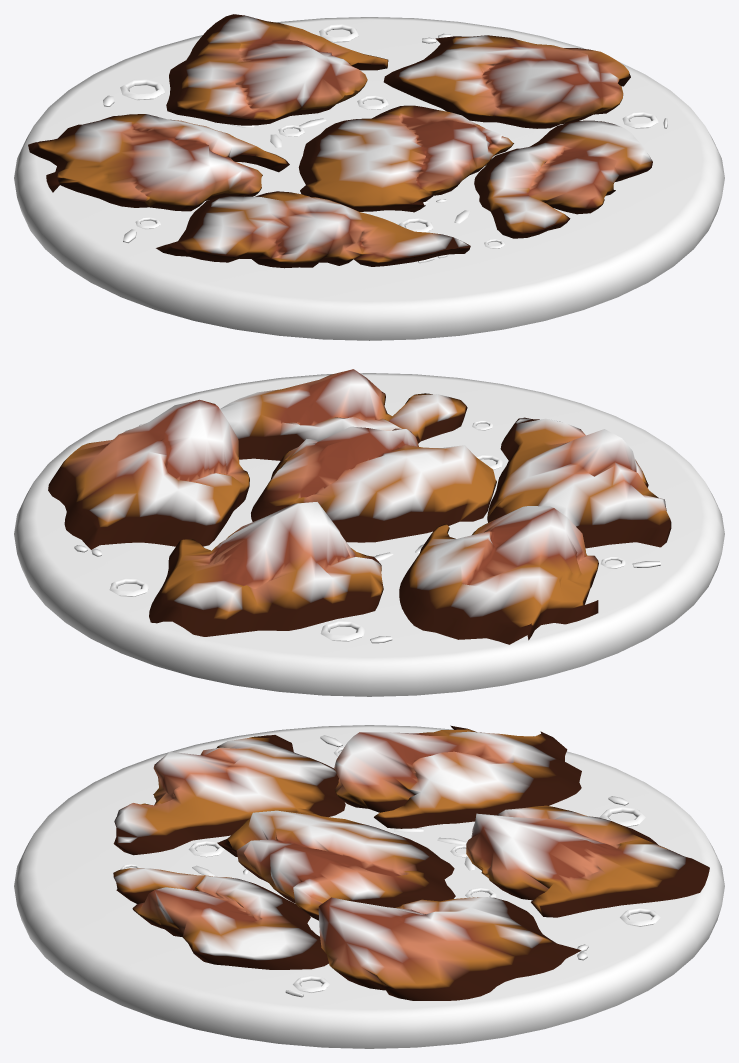
File: SM_D03_wok.fbx
3 renders of one model, top to bottom at view 1: azimuth 30°, elevation 25°; view 2: azimuth 150°, elevation 25°; view 3: azimuth 270°, elevation 25°, orthographic.
Visible parts, largest first — view 1: SM_D03_wok; view 2: SM_D03_wok; view 3: SM_D03_wok.
Part boxes in pixels (x1,y1,x2,y2): SM_D03_wok: (14, 14, 724, 340); SM_D03_wok: (14, 369, 724, 696); SM_D03_wok: (14, 725, 724, 1048).
Bounding box in the file's own units: 0.162 × 0.0222 × 0.162.
